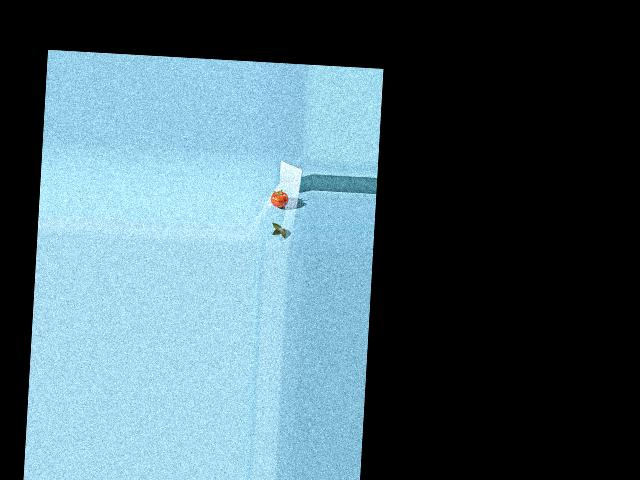tomato: (270, 190, 289, 207)
